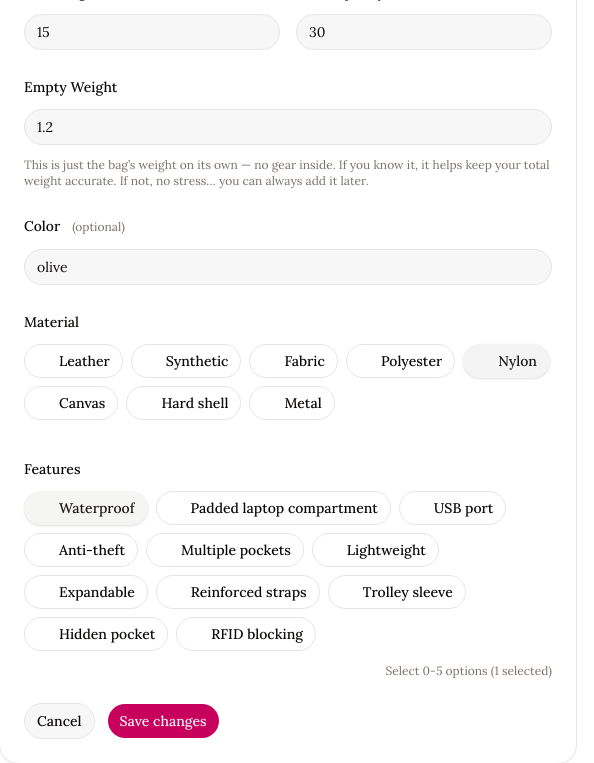
Test: UpdateBagForm › chip selection › allows toggling a feature chip
This screenshot has width=594, height=763.
(page scrolled)
Click the checkbox named "selected waterproof" at (86, 508), box [24,491,148,525]
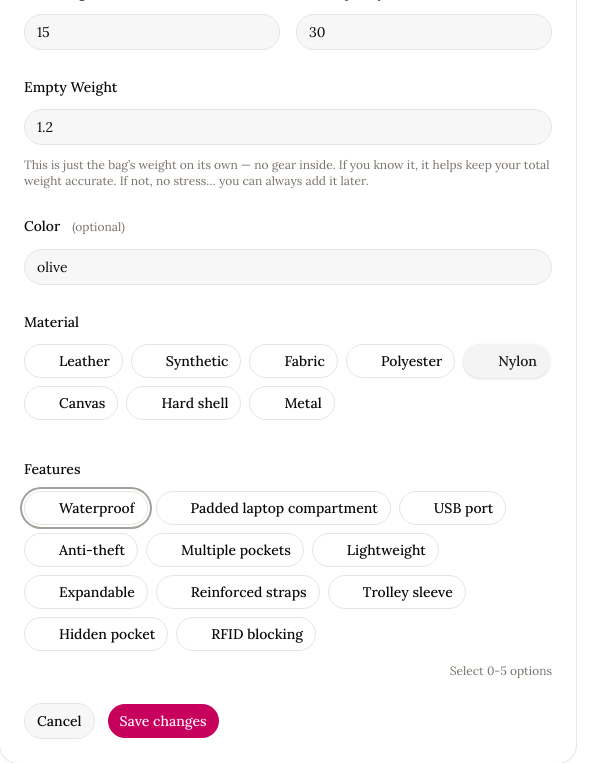
Expected: the checkbox named "not selected waterproof" is shown, [24,491,148,525]
